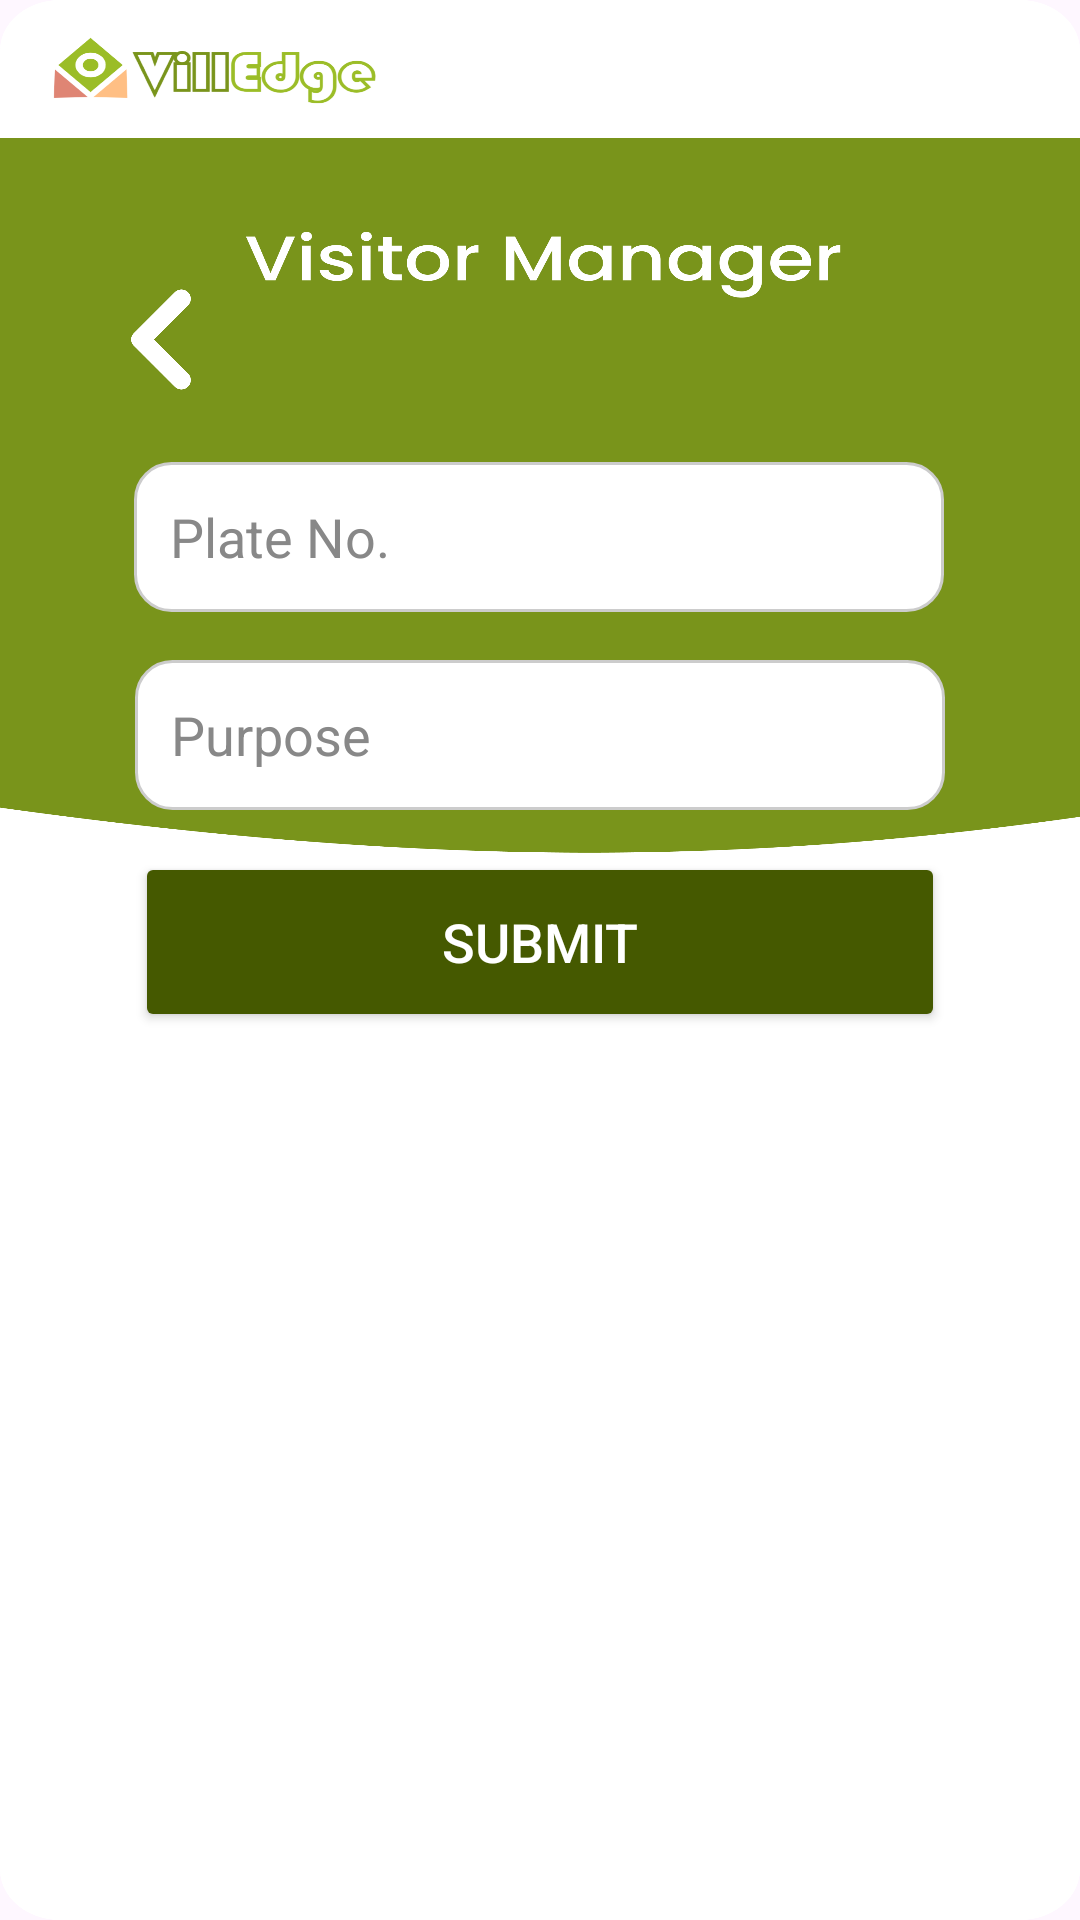

Named icons in this screenshot (1080 x 1920) and their bounding boxes, (x1=x1, y1=y1, x2=x2, y2=y2):
backbutton: (x1=131, y1=289, x2=191, y2=390)
